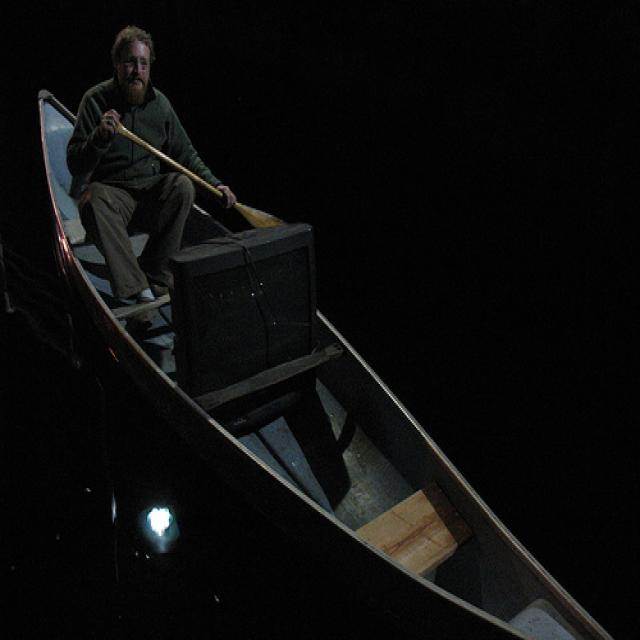Boat: (21, 77, 640, 640)
People: (82, 24, 225, 265)
